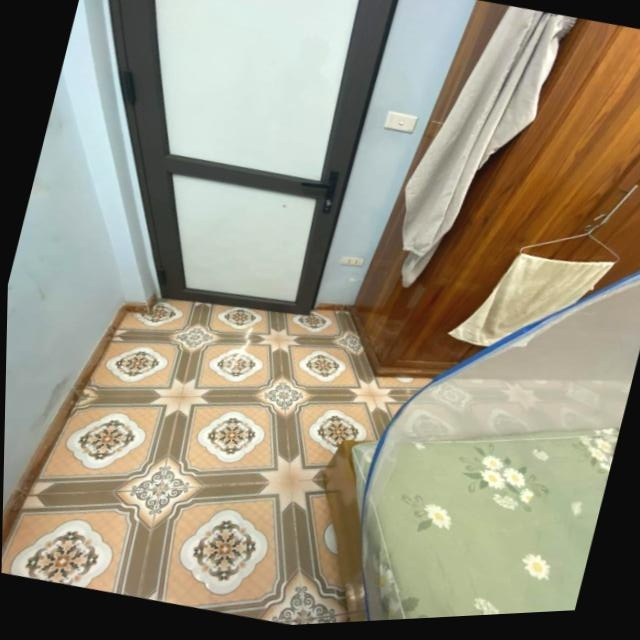outlet: (339, 255, 364, 272)
